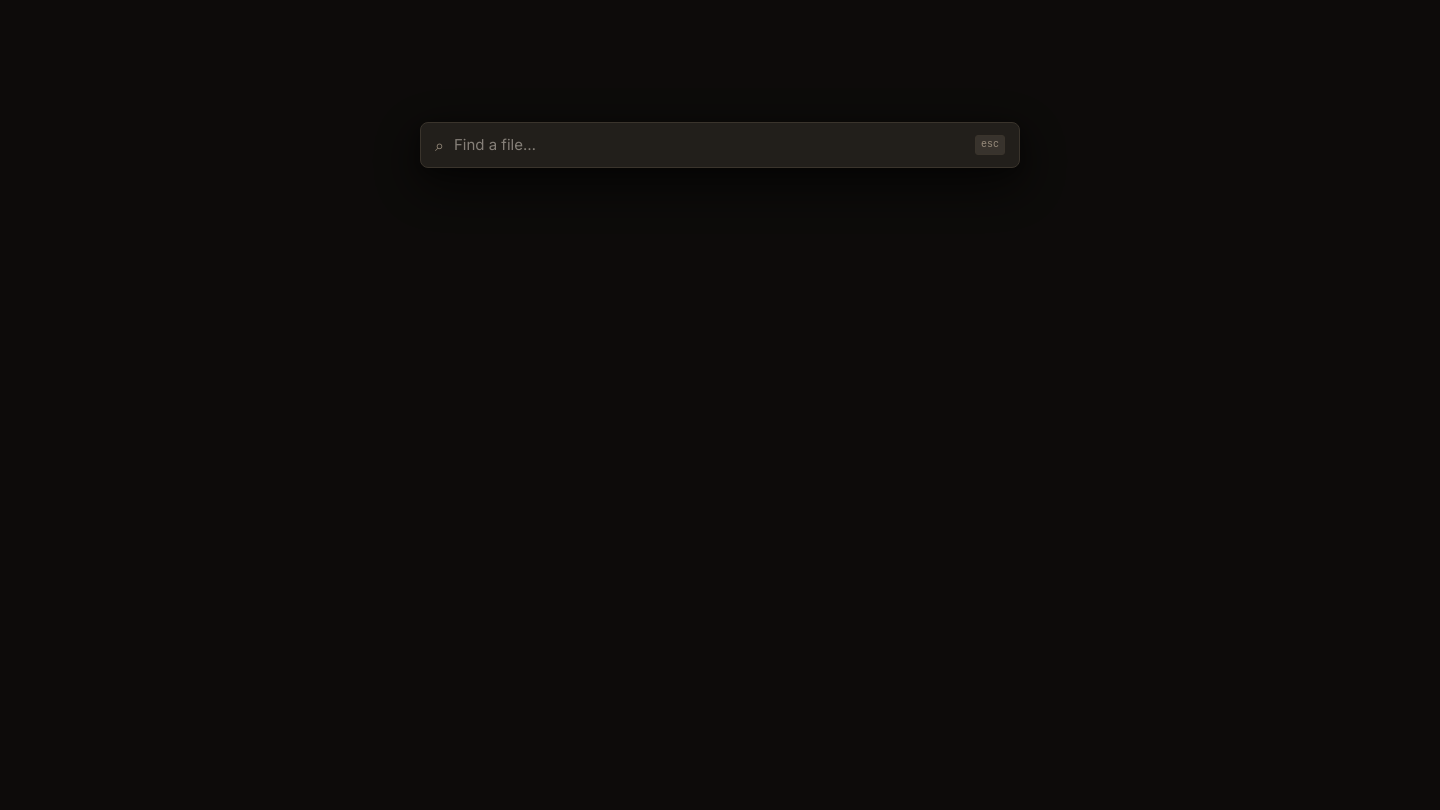
it: SearchPalette — scope and empty results › points empty results at Ask, not at an AI chat
This screenshot has width=1440, height=810.
Type "zzzz" into the field with test id "search-input".
click(710, 145); type("zzzz")  # box [454,133,965,157]
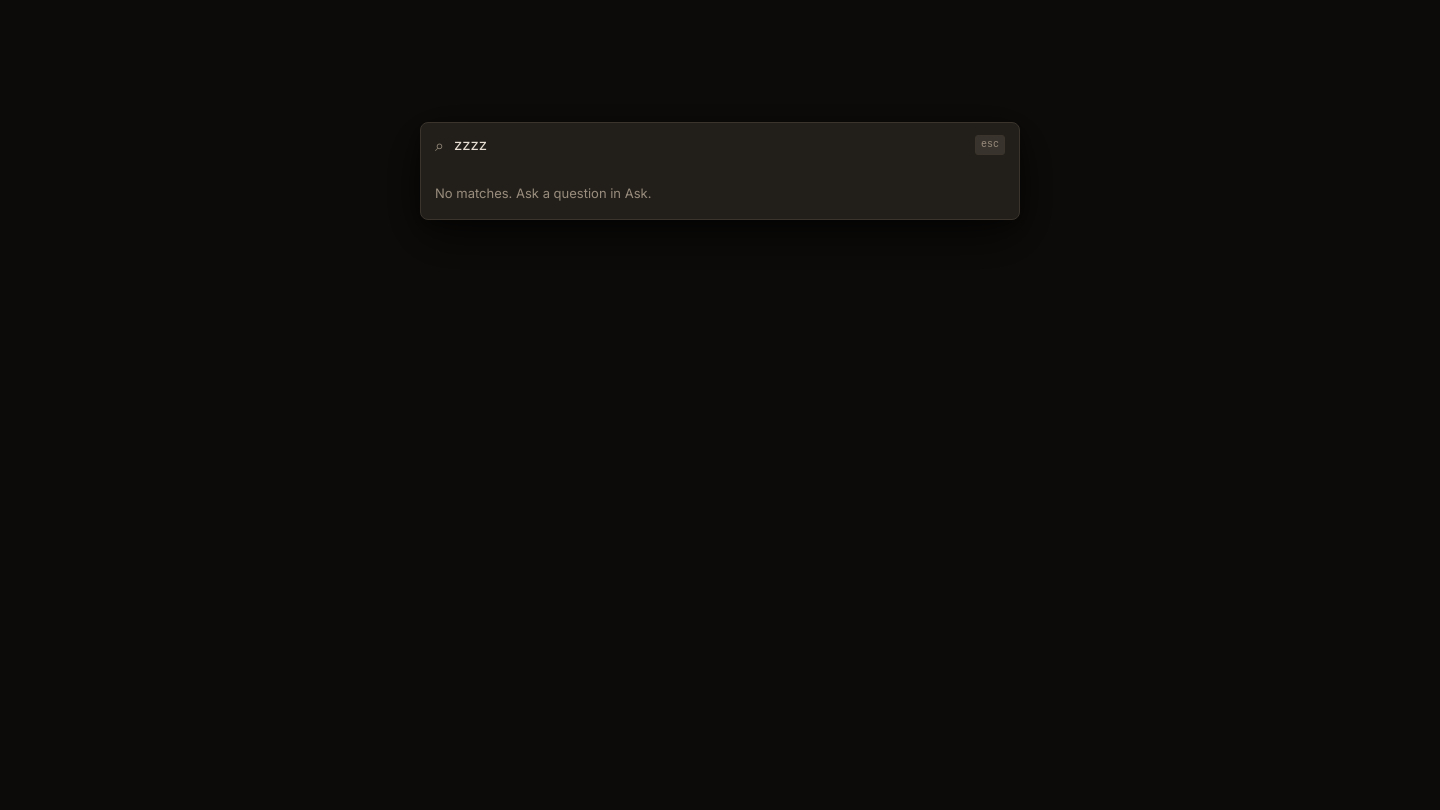
Now the text "No matches. Ask a question in Ask." is shown, box [435,185,651,201]
